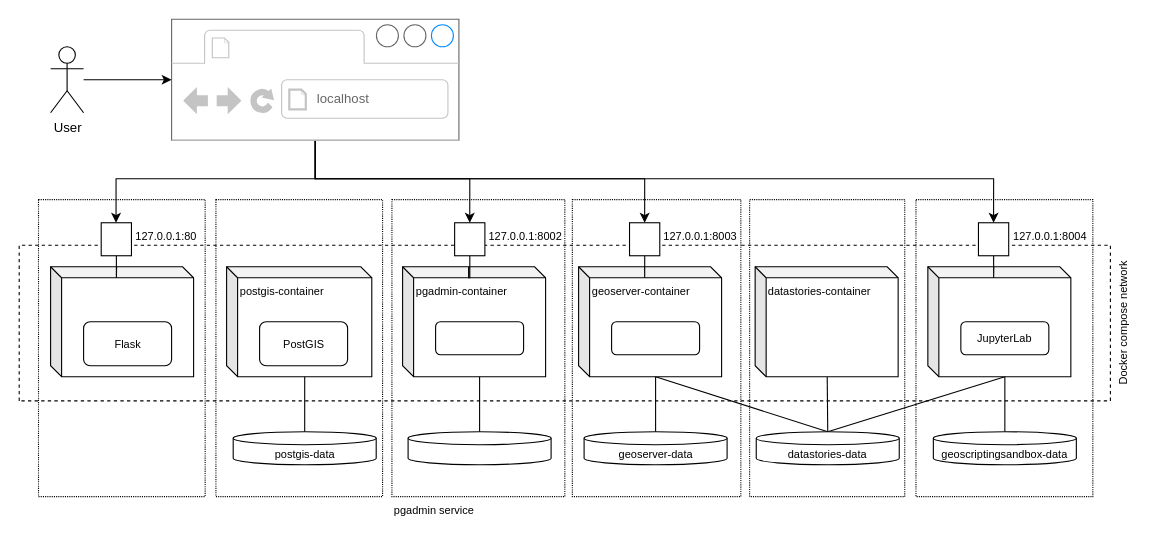
Image size: 1151x536. Some labels were removed from this diagram. Here are the shapes that lost their labels. From the top down, the box of each, then its label:
(50, 266, 194, 377): hub-container
(435, 321, 524, 355): pgAdmin
(610, 321, 700, 355): GeoServer
(927, 266, 1071, 377): geoscriptingsandbox-container
(37, 199, 205, 497): hub service
(215, 199, 383, 497): postgis service
(571, 199, 741, 497): geoserver service
(749, 199, 905, 497): datastories service
(915, 199, 1093, 497): geoscriptingsandbox service
(407, 431, 551, 465): pgadmin-data
